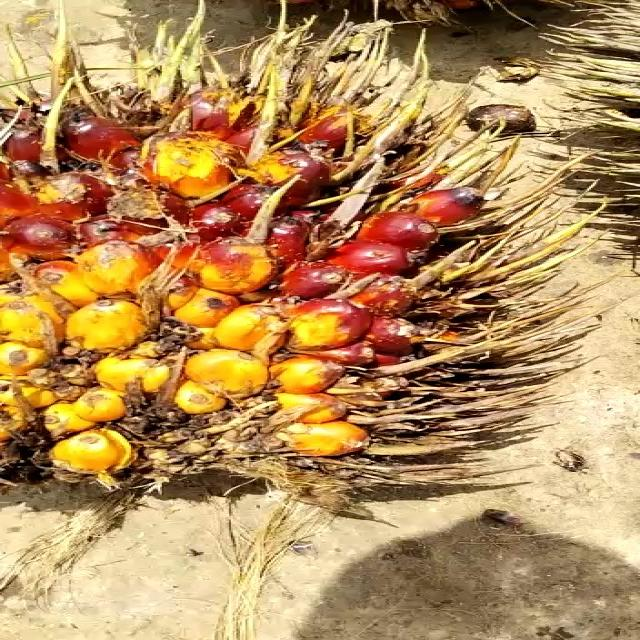palm oil: (0, 32, 578, 513)
